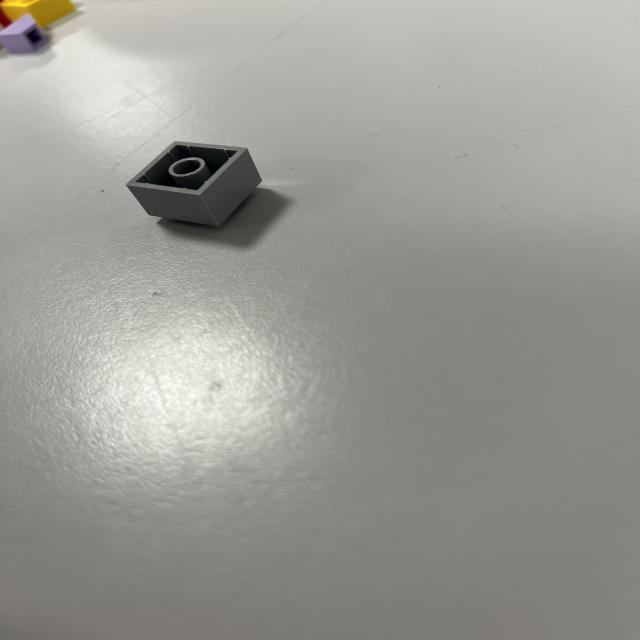C2x2x1: (129, 140, 267, 229)
